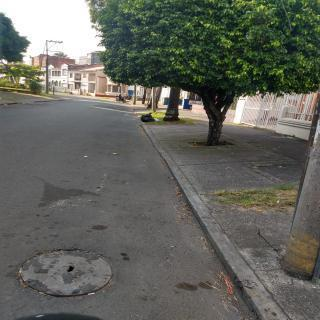Garbage: (140, 112, 155, 122)
